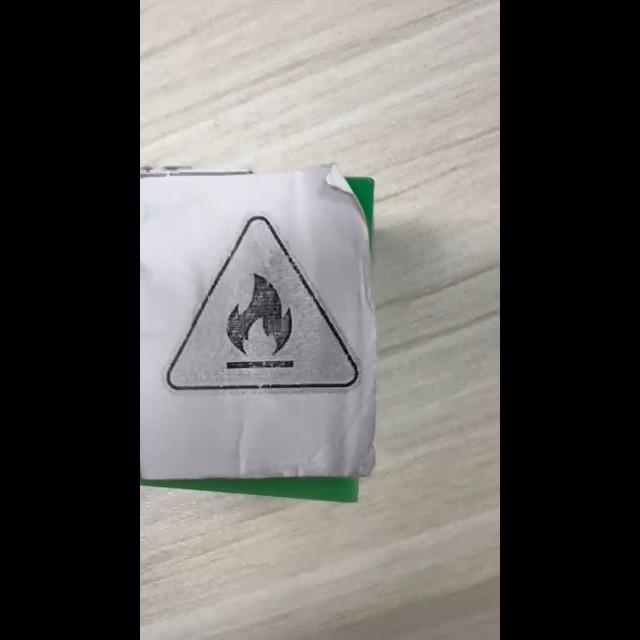Fire: (169, 216, 359, 391)
